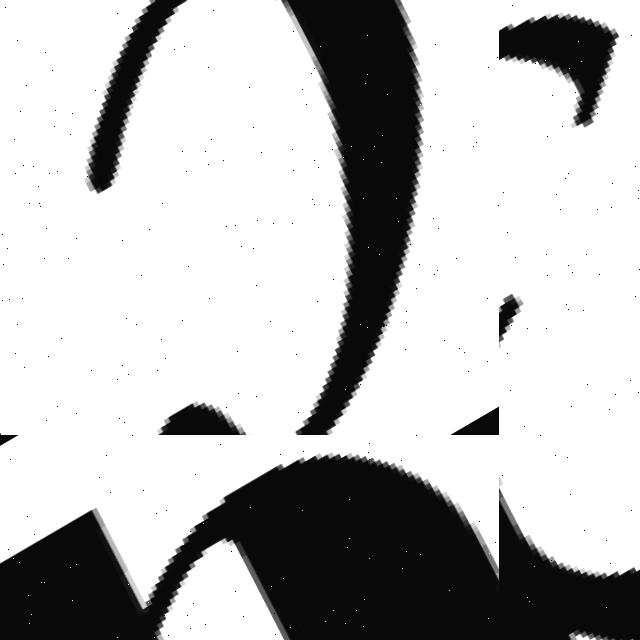3: (499, 0, 640, 435)
C: (282, 0, 430, 435)
Q: (0, 435, 499, 640), (499, 435, 640, 640)
